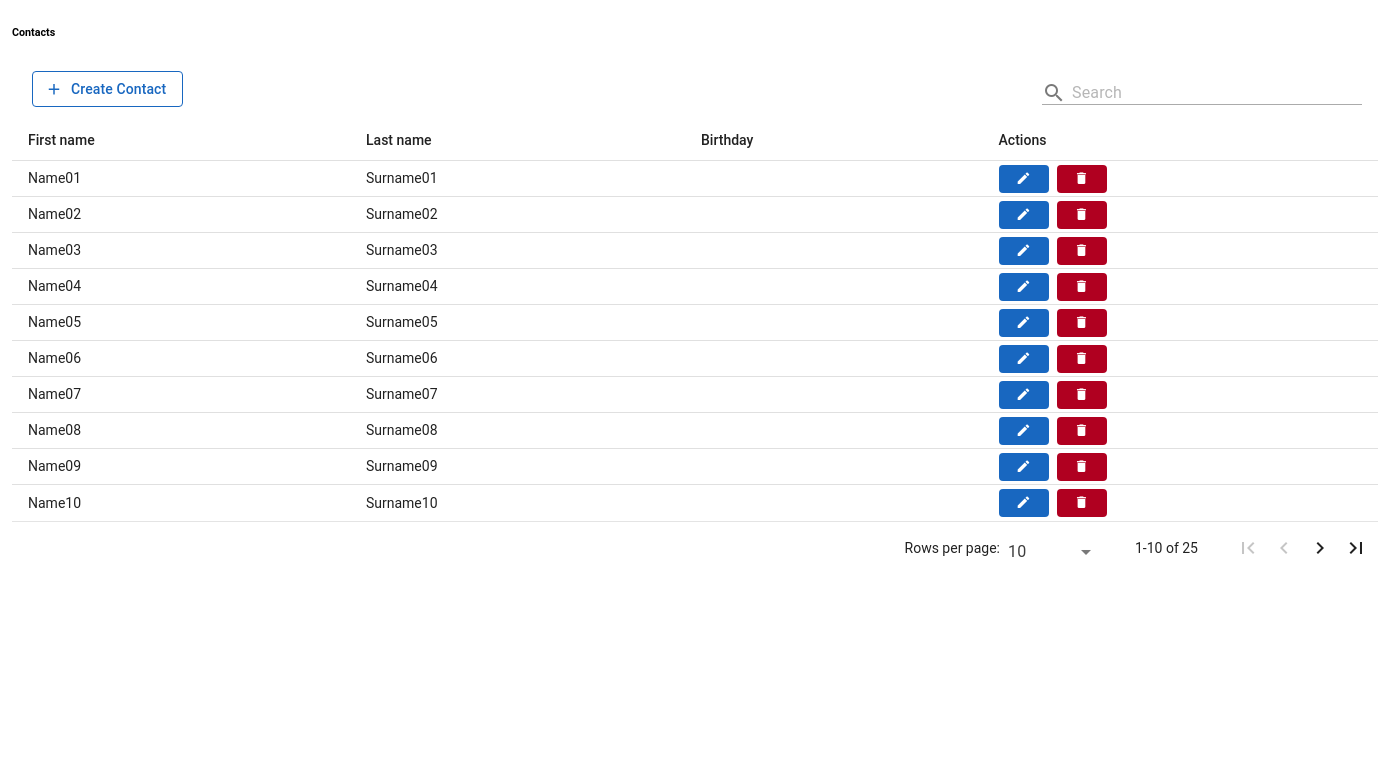
ContactsPage › search › goes back to the first page when the term changes
Click the button named "Next page" at (1320, 548), box x1=1302 y1=530 x2=1338 y2=566
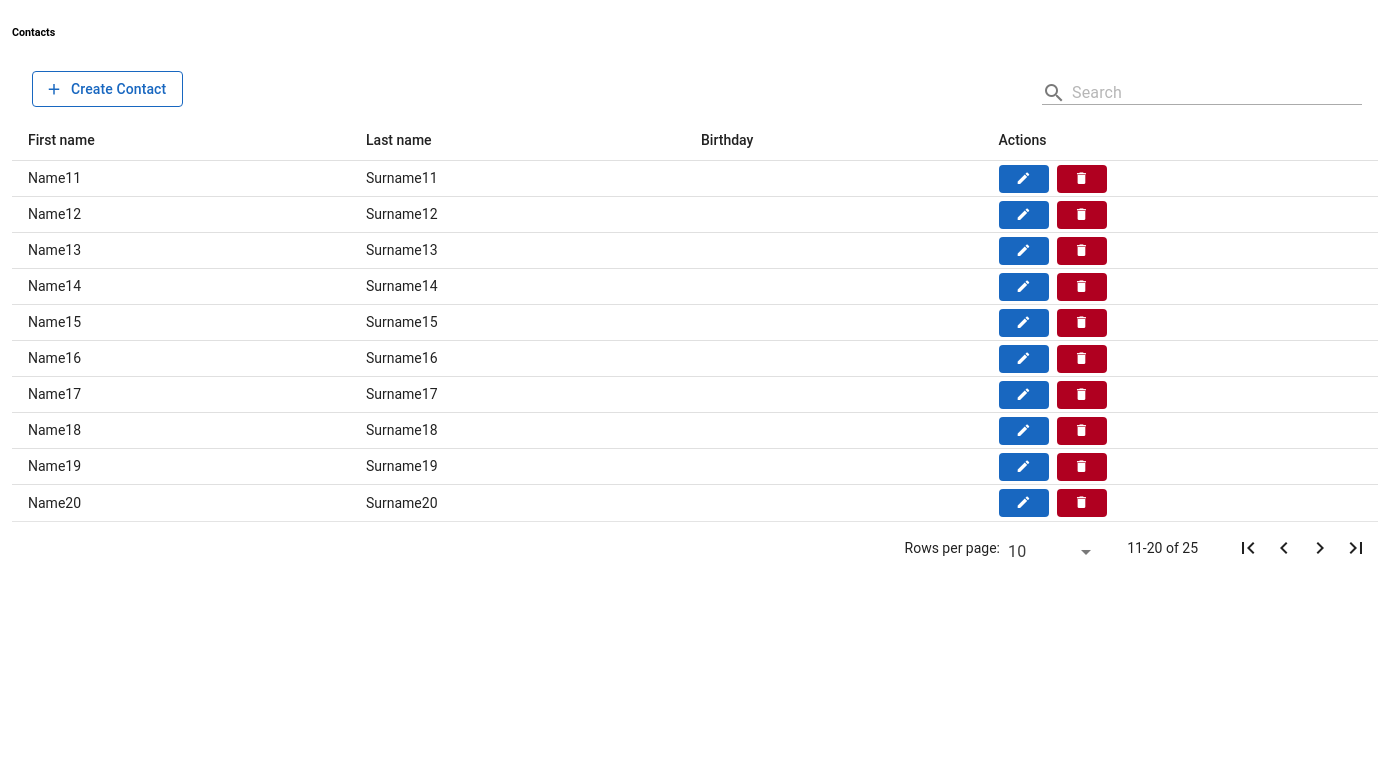
Expected: the text "11-20 of 25" is shown, x1=1127 y1=540 x2=1198 y2=556
Type "name" into the field with test id "contacts-search" showing "Search" at (1214, 89), box x1=1066 y1=73 x2=1362 y2=105
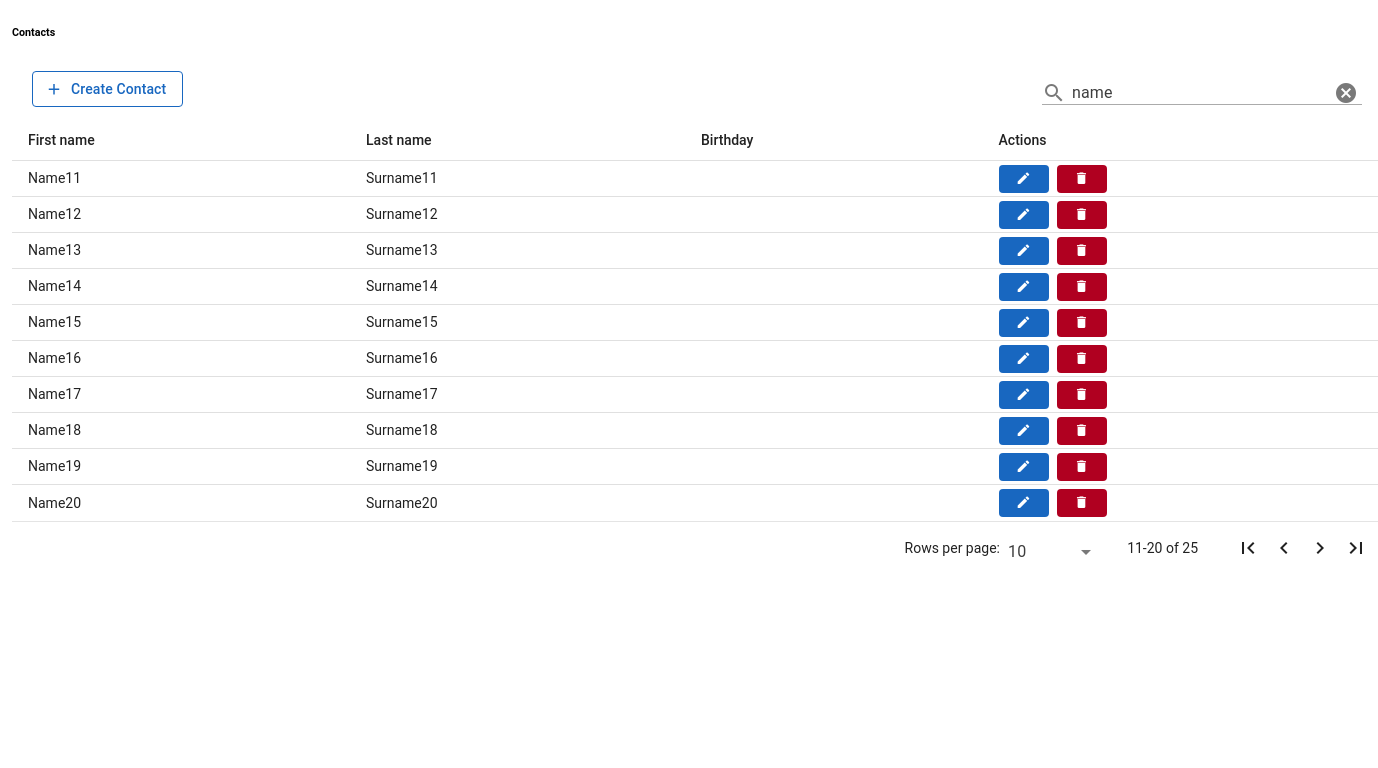
Leave the 2nd field with test id "contacts-search", box x1=1066 y1=73 x2=1330 y2=105
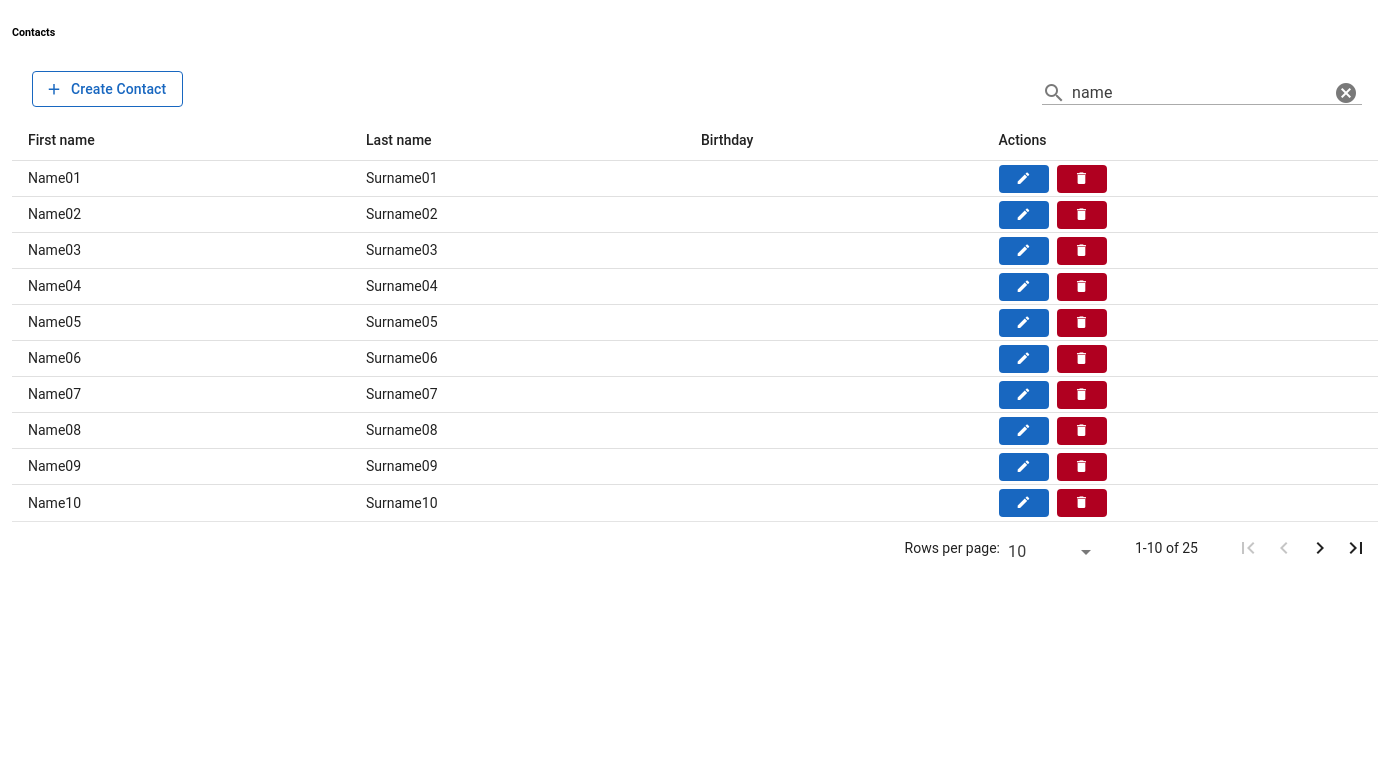
Expected: the text "1-10 of 25" is shown, x1=1135 y1=540 x2=1198 y2=556
